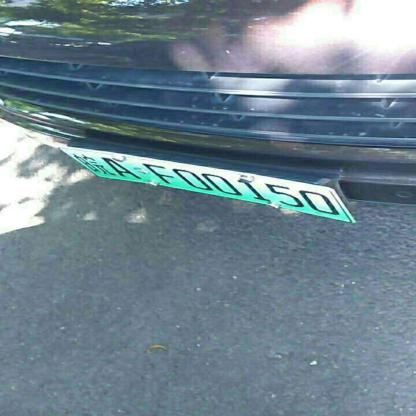lp: (60, 147, 351, 220)
